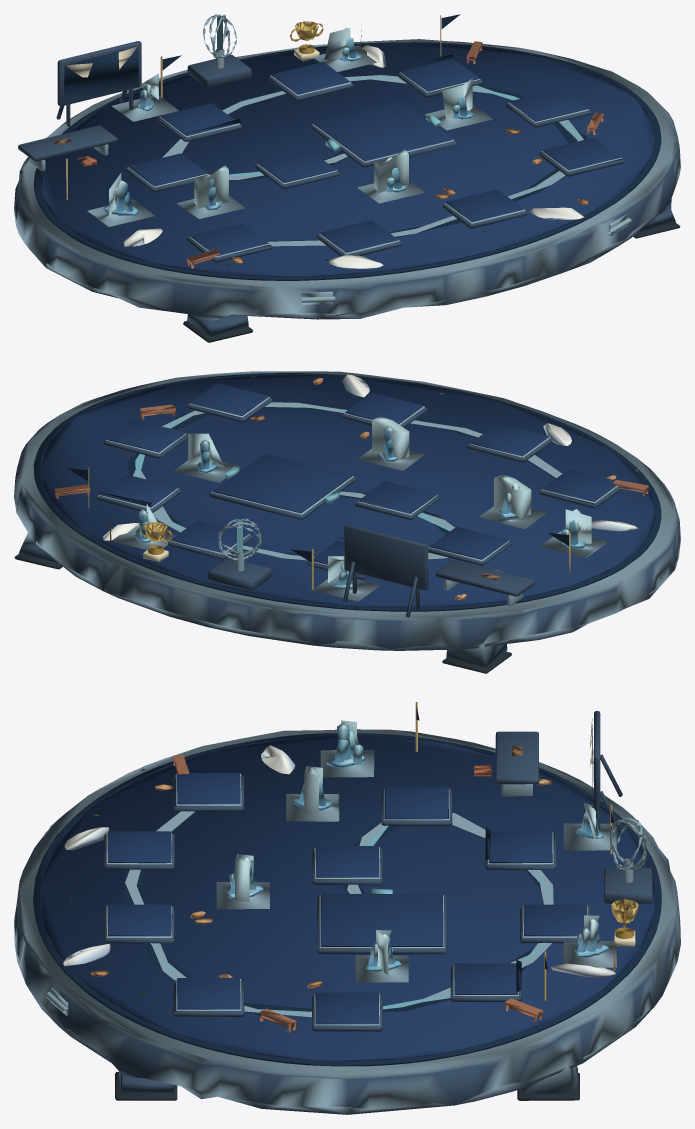
File: hibern.far.glb
3 views of the same model, one above another, from view 1: azimuth 30°, elevation 25°; view 2: azimuth 150°, elevation 25°; view 3: azimuth 270°, elevation 25° (orthographic). The views are drawn at different scales.
Visible parts, largest first — view 1: Static tournament table • material batches; view 2: Static tournament table • material batches; view 3: Static tournament table • material batches.
Part boxes in pixels (<box>): Static tournament table • material batches: <box>14,14,680,342</box>; Static tournament table • material batches: <box>14,371,680,673</box>; Static tournament table • material batches: <box>14,702,680,1114</box>.
Size of the model in its own units: 24.02 by 4.66 by 19.24.
